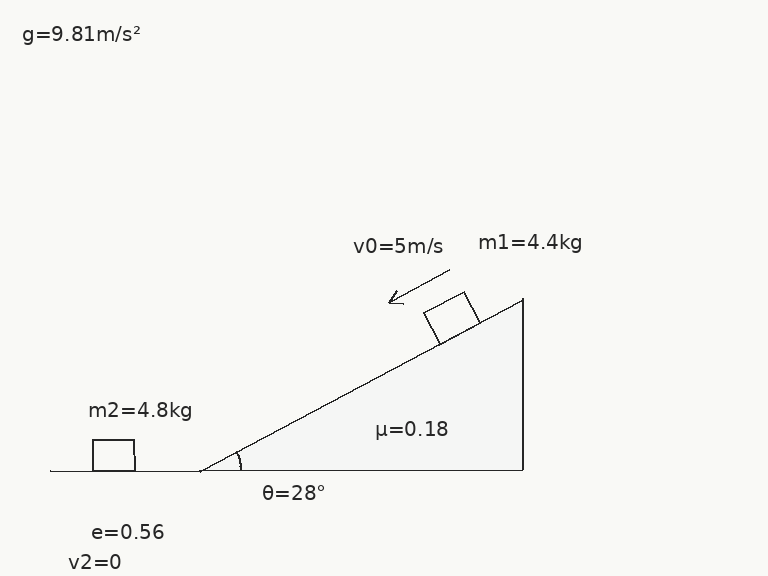block: (421, 290, 482, 345), (90, 437, 136, 472)
ramp: (199, 297, 524, 472)
